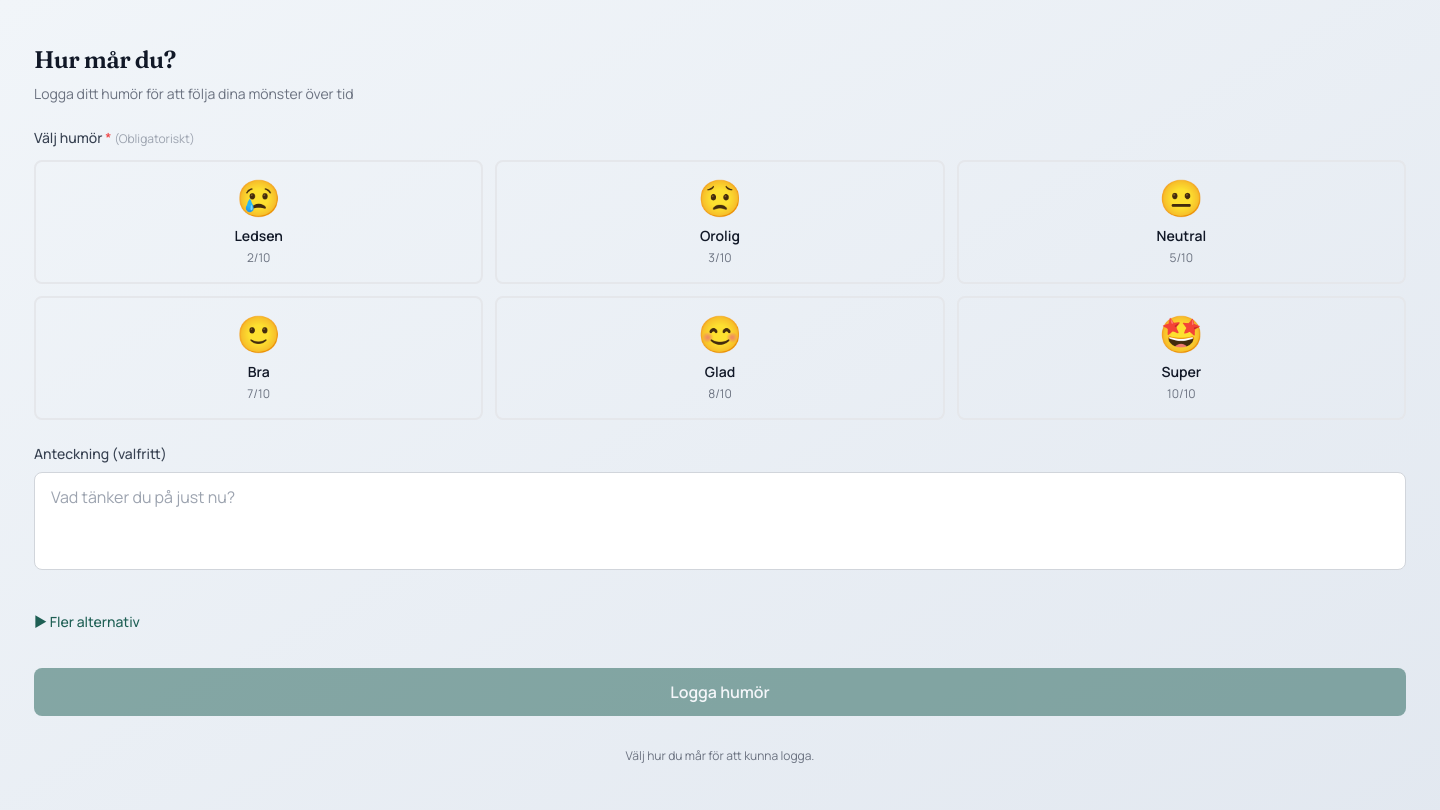
Test: SuperMoodLogger › shows daily limit error when cannot log mood
Click the text "Glad". click: {"x": 720, "y": 372}
box: top-left (705, 362), bottom-right (735, 381)
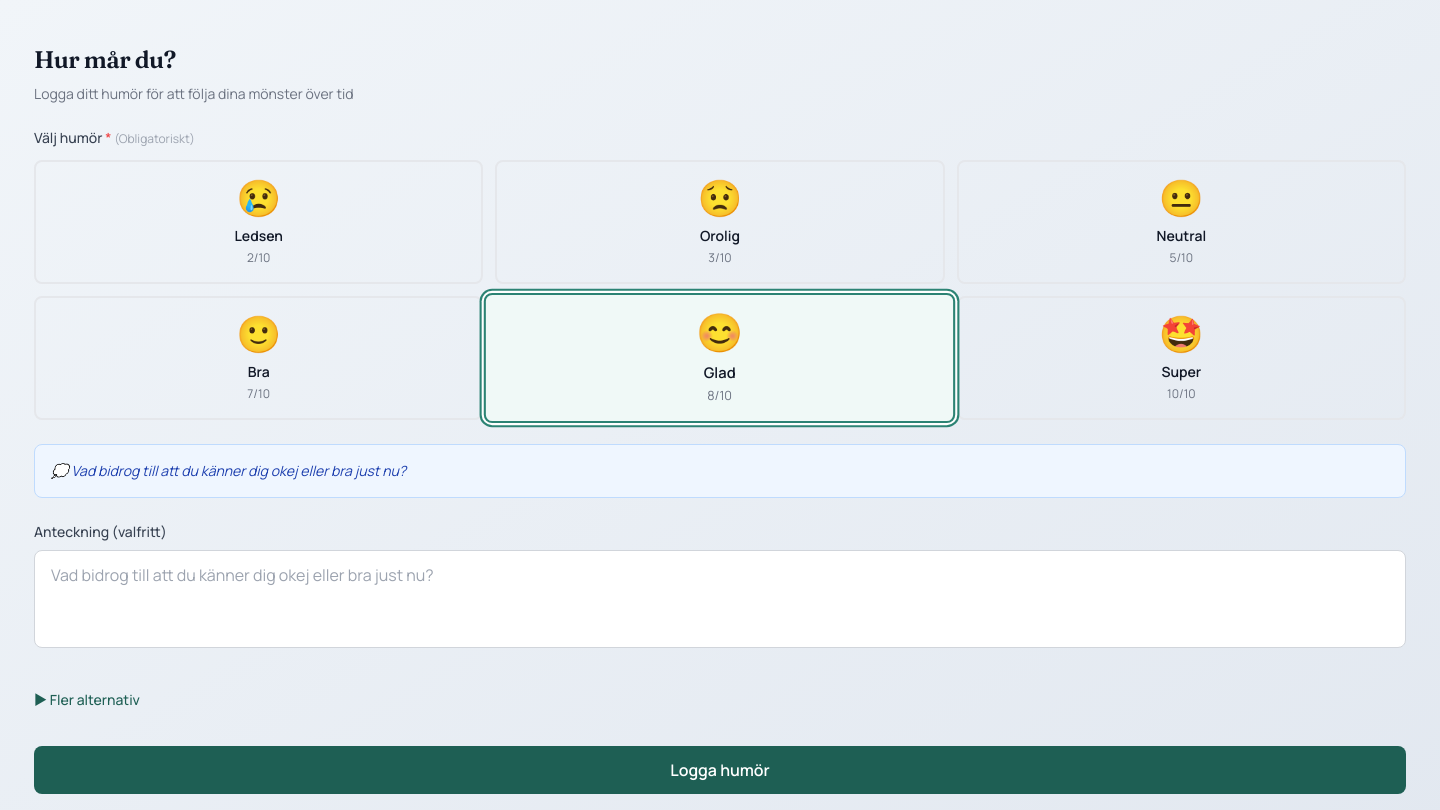
Click the button "Logga humör". click: {"x": 720, "y": 770}
box: top-left (34, 746), bottom-right (1406, 794)
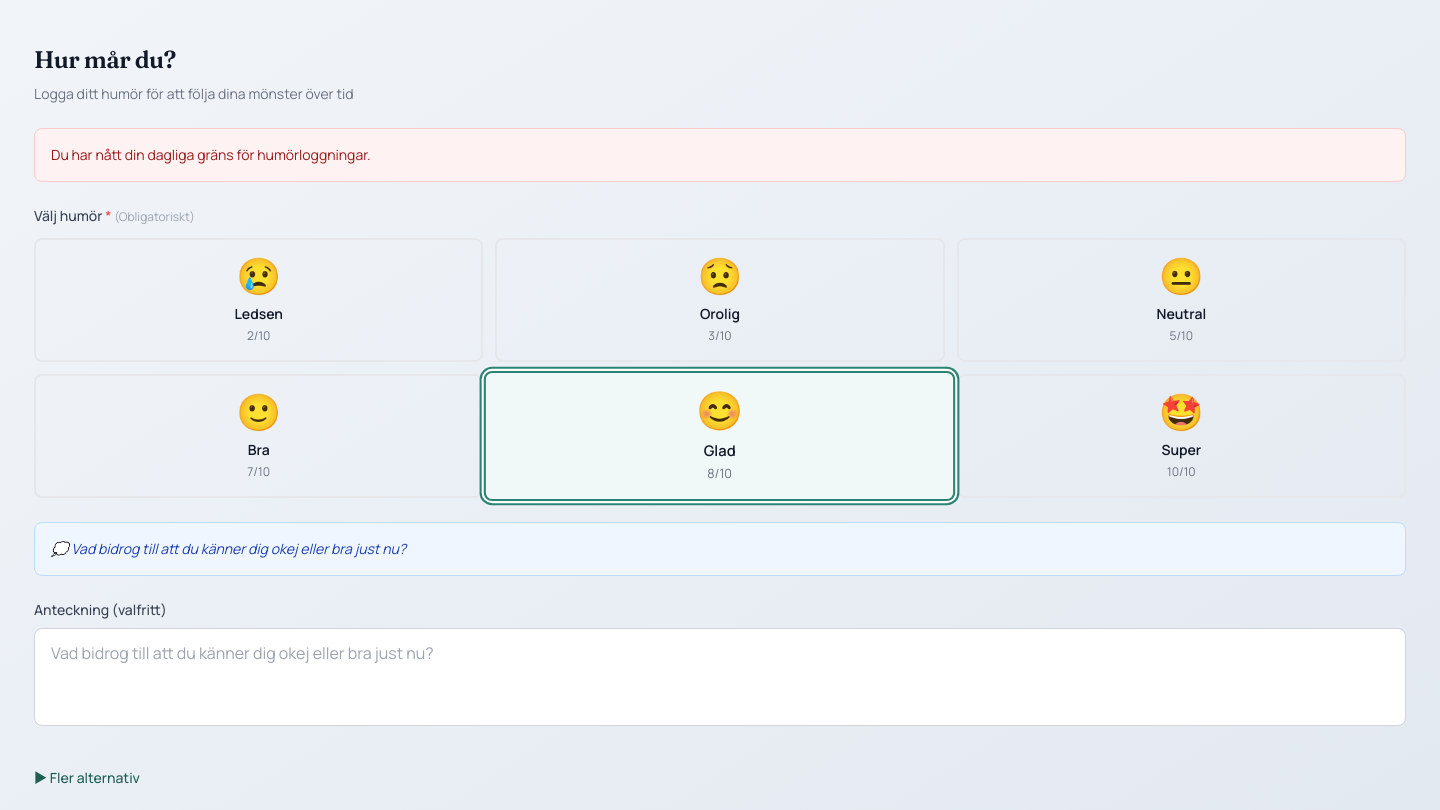
Expected: the text "Du har nått din dagliga gräns för humörloggningar." is shown, top-left (51, 145), bottom-right (371, 164)
